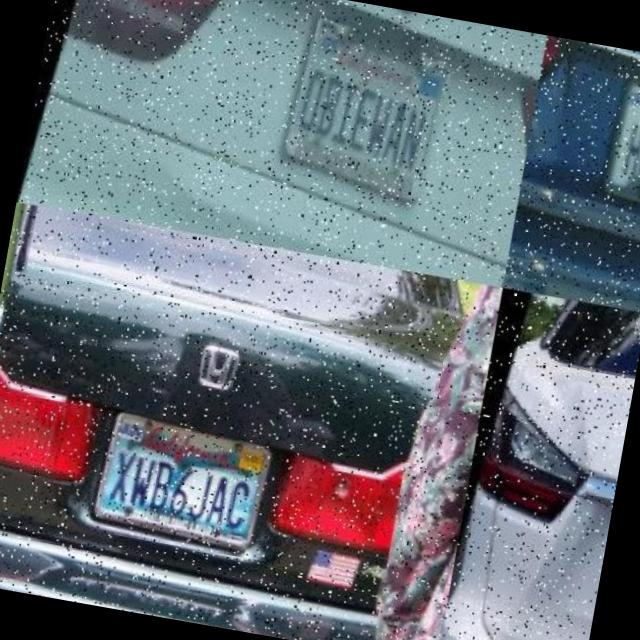LicensePlate: (276, 0, 468, 206), (91, 404, 282, 550), (603, 66, 640, 210)
